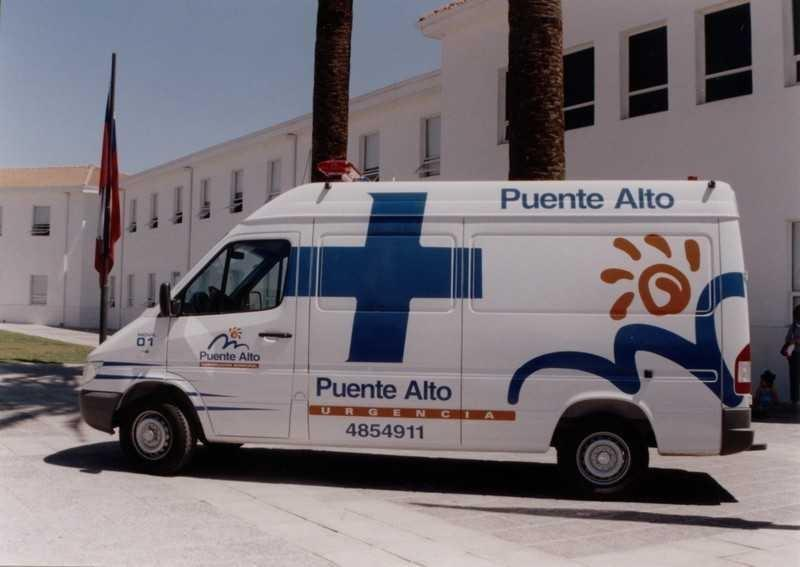car: (77, 176, 766, 495)
